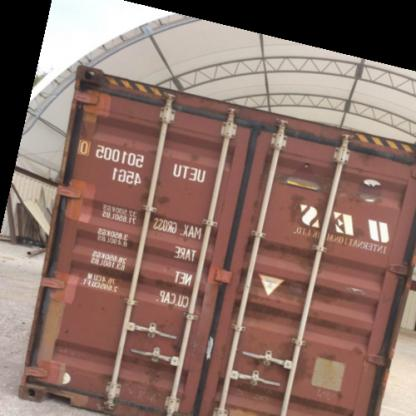Damage: (341, 165, 391, 234), (291, 194, 355, 237), (273, 333, 319, 382), (297, 248, 336, 279), (139, 350, 165, 394), (119, 234, 152, 267), (151, 274, 177, 304)
